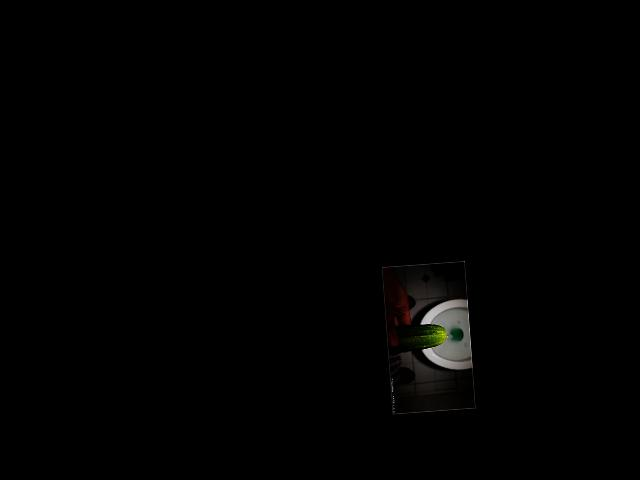cucumber: (385, 322, 447, 354)
